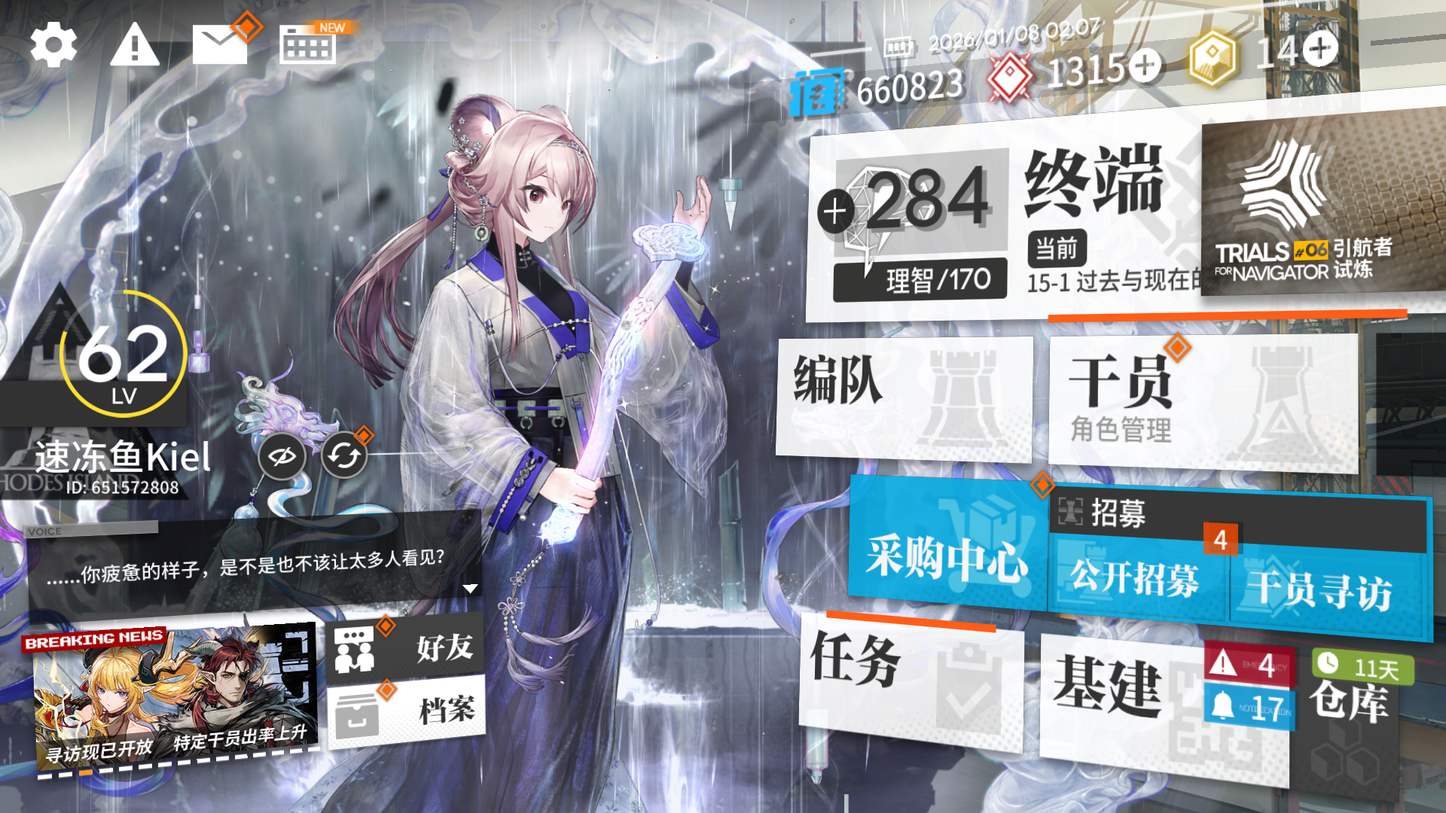home_button: (1017, 134, 1184, 220)
infrastructure_button: (1033, 641, 1263, 769)
